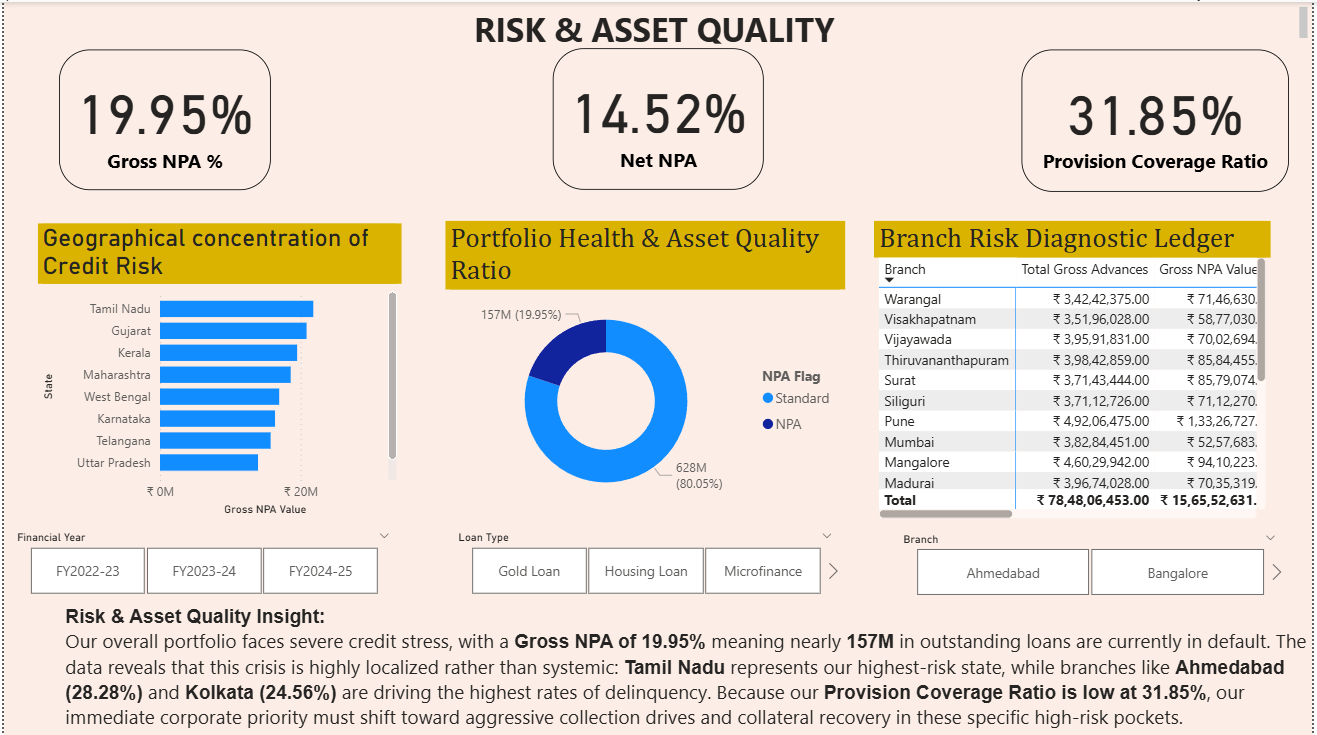

The dashboard page shown, as its layout file describes it:
{"tool":"powerbi","page":{"name":"Risk & Asset Quality","canvas":[1280,720],"ordinal":1},"visuals":[{"type":"card","fields":{"Values":["3_NPA_Portfolio.Net NPA"]},"box":[536.8,45.2,206.7,138.2],"z":0},{"type":"card","fields":{"Values":["3_NPA_Portfolio.Gross NPA %"]},"box":[54.3,45.9,207.3,137.7],"z":1000},{"type":"card","fields":{"Values":["3_NPA_Portfolio.Provision Coverage Ratio"]},"box":[994.8,45.9,261.6,139.1],"z":2000},{"type":"clusteredBarChart","title":"Geographical concentration of Credit Risk","fields":{"Category":["3_NPA_Portfolio.State"],"Y":["3_NPA_Portfolio.Gross NPA Value"]},"box":[33.4,217,356.2,290.8],"z":3000},{"type":"donutChart","title":"Portfolio Health & Asset Quality Ratio","fields":{"Category":["3_NPA_Portfolio.NPA Flag"],"Y":["Sum(3_NPA_Portfolio.Outstanding Amount)"]},"box":[431.3,214.3,391,290.8],"z":4000},{"type":"pivotTable","title":"Branch Risk Diagnostic Ledger","fields":{"Rows":["3_NPA_Portfolio.Branch"],"Values":["3_NPA_Portfolio.Total Gross Advances","3_NPA_Portfolio.Gross NPA Value","3_NPA_Portfolio.Gross NPA %","Sum(3_NPA_Portfolio.Provision Amount)","3_NPA_Portfolio.Provision Coverage Ratio"]},"box":[851.5,214.3,388.2,296.3],"z":5000},{"type":"textbox","box":[54.9,585.9,1225.4,134.5],"z":6000},{"type":"slicer","fields":{"Values":["Dim_LoanType.Loan Type"]},"box":[431.3,512,391,73.7],"z":7000},{"type":"slicer","fields":{"Values":["Dim_FinancialYear.Financial Year"]},"box":[0,512,389.6,73.7],"z":8000},{"type":"slicer","fields":{"Values":["Dim Bridge.Branch"]},"box":[866.8,513.4,389.6,73.7],"z":10000},{"type":"textbox","box":[0,0,1280,45.9],"z":11000}]}

Visuals, with their boxes in screenshot pixels (x1, y1, x2, y2), scaled from the page's 1280x720 canvas onto the 1317x735 screenshot:
card - 3_NPA_Portfolio.Net NPA: [552,46,765,187]
card - 3_NPA_Portfolio.Gross NPA %: [56,47,269,187]
card - 3_NPA_Portfolio.Provision Coverage Ratio: [1024,47,1293,189]
"Geographical concentration of Credit Risk" clusteredBarChart: [34,222,401,518]
"Portfolio Health & Asset Quality Ratio" donutChart: [444,219,846,516]
"Branch Risk Diagnostic Ledger" pivotTable: [876,219,1276,521]
textbox: [56,598,1316,734]
slicer - Dim_LoanType.Loan Type: [444,523,846,598]
slicer - Dim_FinancialYear.Financial Year: [0,523,401,598]
slicer - Dim Bridge.Branch: [892,524,1293,599]
textbox: [0,0,1316,47]
